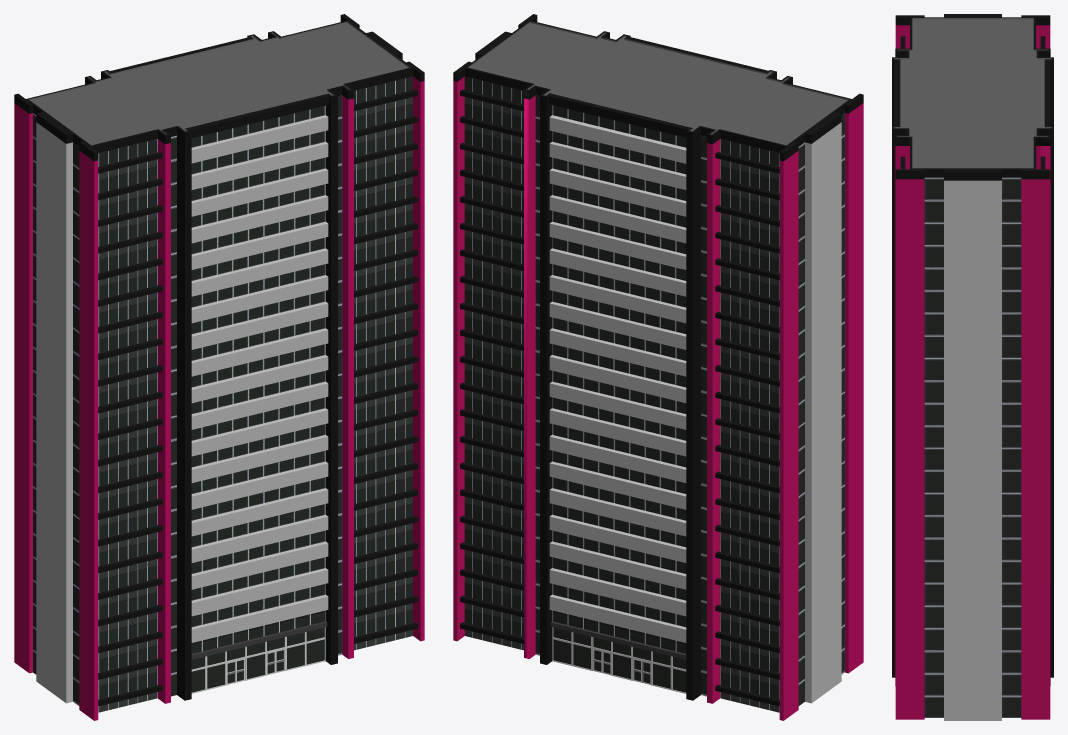
3 renders of one model, left to right at view 1: azimuth 30°, elevation 25°; view 2: azimuth 150°, elevation 25°; view 3: azimuth 270°, elevation 25°, orthographic. The views are drawn at different scales.
Parts seen in each view (by area): view 1: BC-08; view 2: BC-08; view 3: BC-08.
Part boxes in pixels (x1,y1,x2,y2): BC-08: [14, 14, 424, 720]; BC-08: [453, 14, 863, 720]; BC-08: [892, 14, 1053, 720].
Size of what is drawn, in the model's own units: 39.63 by 63.96 by 17.1.
